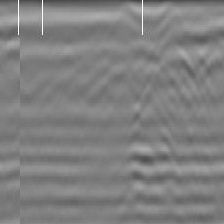Utility: (160, 47, 224, 86)
